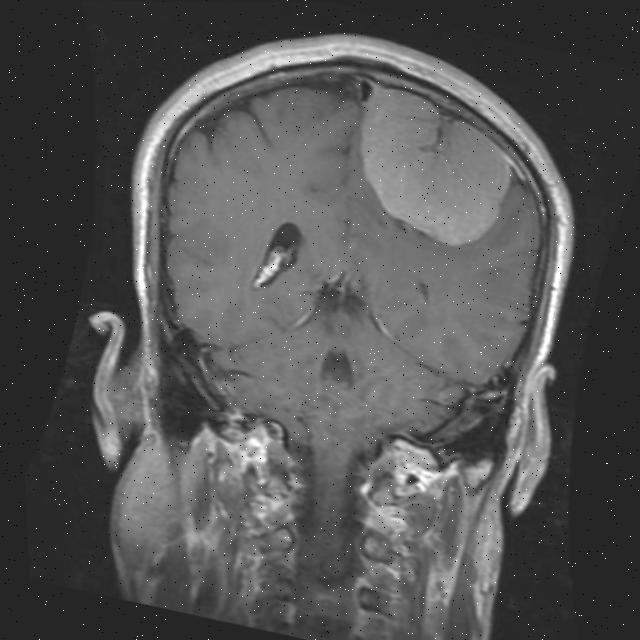Meningioma: (336, 80, 529, 255)
